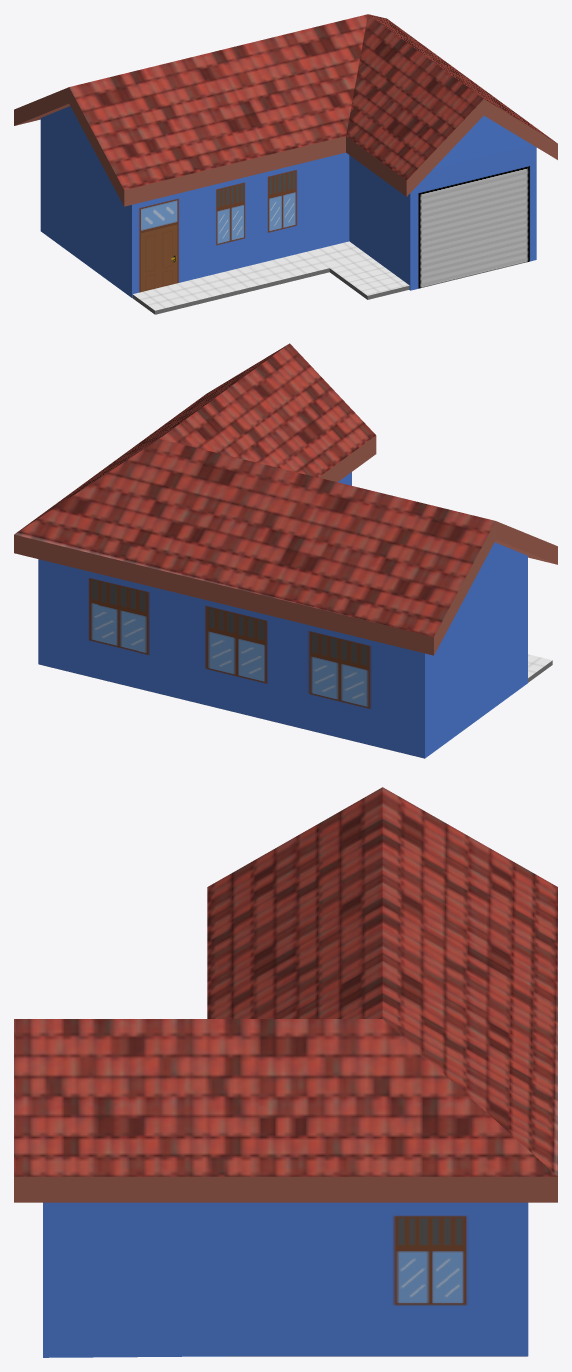
The model's file is house_blue.fbx.
3 views of the same model, one above another, from view 1: azimuth 30°, elevation 25°; view 2: azimuth 150°, elevation 25°; view 3: azimuth 270°, elevation 25° (orthographic). The views are drawn at different scales.
Parts seen in each view (by area): view 1: Plane.001, rumah, Plane; view 2: Plane.001, rumah, Plane; view 3: Plane.001, rumah.
Boxes of the visible parts, left/top/right/bottom form: Plane.001: left=14, top=14, right=557, bottom=206; rumah: left=40, top=106, right=536, bottom=297; Plane: left=132, top=241, right=409, bottom=314; Plane.001: left=14, top=343, right=557, bottom=655; rumah: left=38, top=472, right=527, bottom=758; Plane: left=43, top=654, right=552, bottom=758; Plane.001: left=14, top=787, right=557, bottom=1202; rumah: left=43, top=1202, right=528, bottom=1357.
Bounding box in the file's own units: 1438 × 673 × 1141.
Materials: 3 (3 with a texture image).
